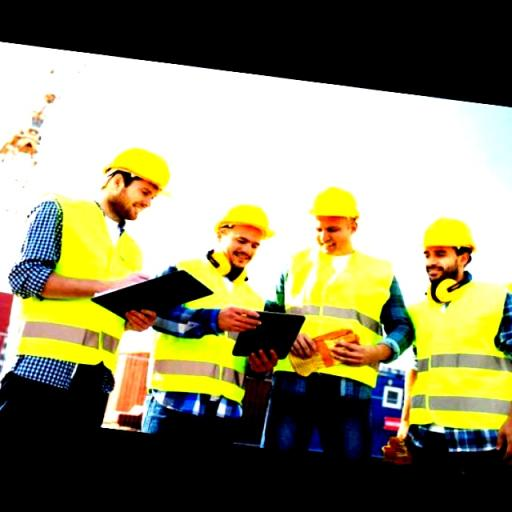Person: (0, 139, 167, 445), (274, 174, 422, 467), (152, 185, 268, 443), (405, 200, 512, 461)
helmet: (105, 141, 171, 195), (215, 203, 275, 240), (422, 215, 480, 252), (307, 184, 362, 221)
none: (221, 235, 269, 251), (307, 224, 355, 240), (414, 248, 462, 264), (122, 186, 170, 202)
vest: (14, 194, 136, 378), (150, 252, 270, 410), (402, 276, 512, 436), (270, 248, 391, 388)
